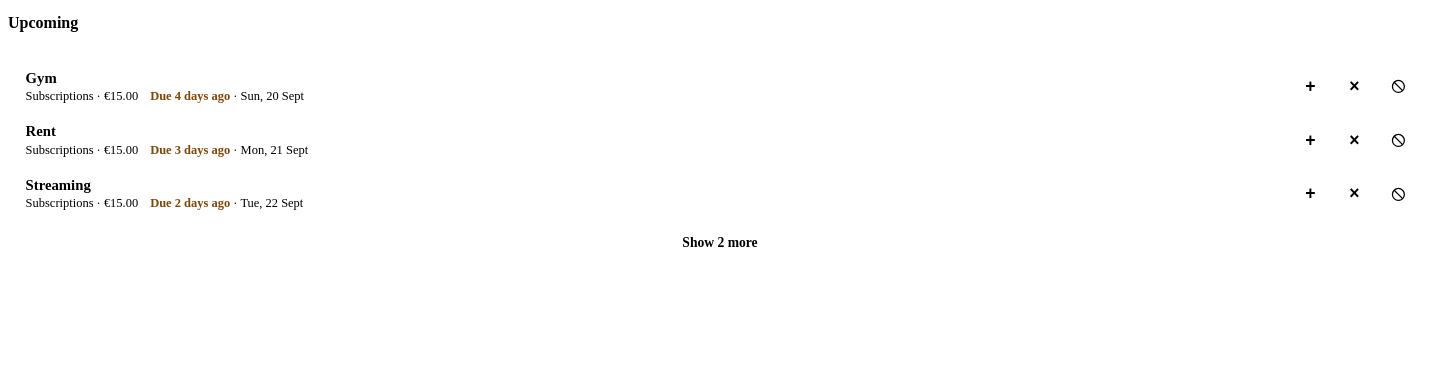
Test case: UpcomingCard › a long card › opens the folded rows and closes them again
Click the button "Show 2 more" at (720, 243), box x1=26 y1=221 x2=1414 y2=265
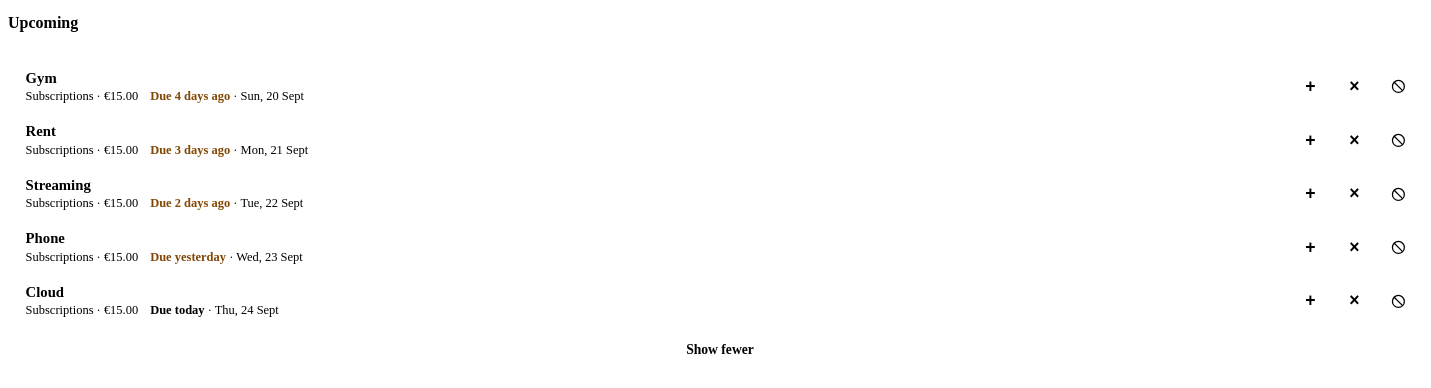
Expected: the button "Show fewer" is expanded
Click the button "Show fewer" at (720, 350), box x1=26 y1=328 x2=1414 y2=372
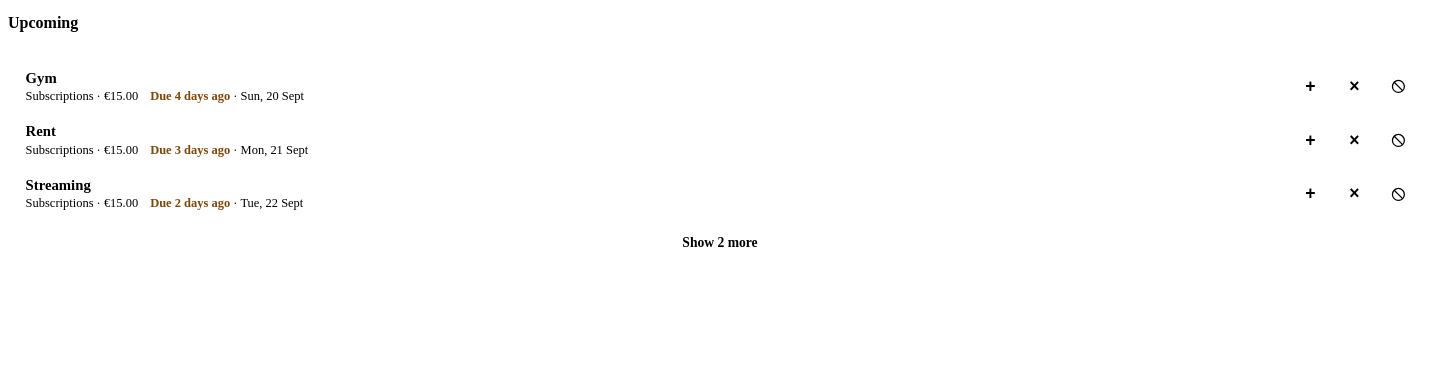
Expected: the button "Show 2 more" is shown, x1=26 y1=221 x2=1414 y2=265
